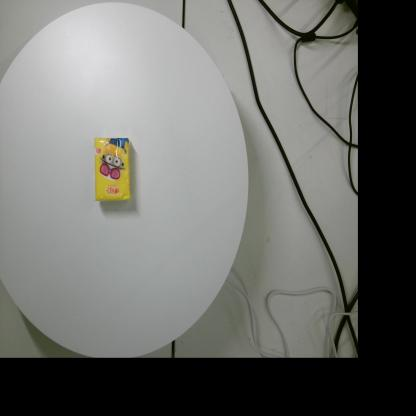Tissue: (94, 138, 132, 202)
